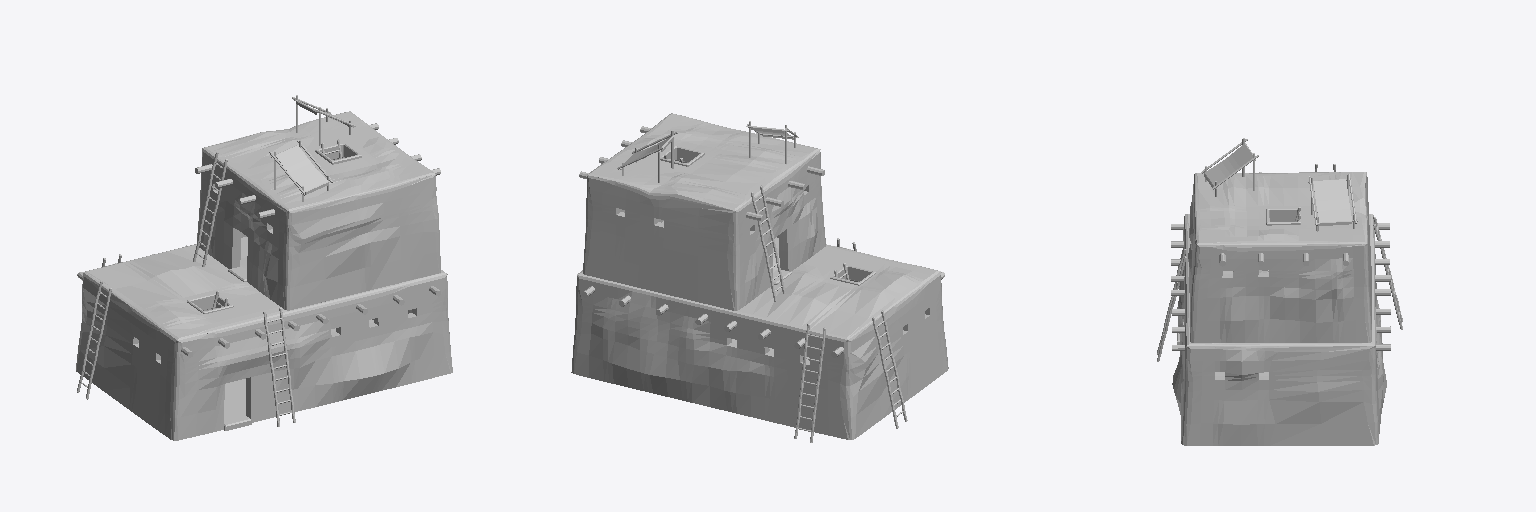
Rendered from lowpoly_turkish_house_006.obj.
3 renders of one model, left to right at view 1: azimuth 30°, elevation 25°; view 2: azimuth 150°, elevation 25°; view 3: azimuth 270°, elevation 25°, orthographic.
Parts seen in each view (by area): view 1: Cube.109, Cube.110, Plane.009, Cube.168, Cube.001, Cube.170, Cube.187, Cube.127; view 2: Cube.109, Cube.110, Cube.169, Cube.170, Cube.187; view 3: Cube.110, Cube.109, Plane.010, Plane.009, Cube.127.
Part boxes in pixels (x1,y1,x2,y2): Cube.109: (76, 237, 452, 440); Cube.110: (197, 111, 440, 310); Plane.009: (276, 145, 328, 194); Cube.168: (263, 308, 295, 426); Cube.001: (224, 319, 373, 418); Cube.170: (77, 281, 111, 399); Cube.187: (193, 152, 227, 266); Cube.127: (315, 143, 361, 164); Cube.109: (571, 221, 948, 439); Cube.110: (583, 113, 825, 310); Cube.169: (794, 324, 825, 442); Cube.170: (872, 310, 907, 428); Cube.187: (751, 185, 785, 301); Cube.110: (1188, 172, 1371, 342); Cube.109: (1172, 214, 1386, 445); Plane.010: (1313, 179, 1351, 225); Plane.009: (1204, 143, 1252, 187); Cube.127: (1266, 208, 1300, 225).
Bounding box in the file's own units: 7.17 × 5.21 × 4.95.